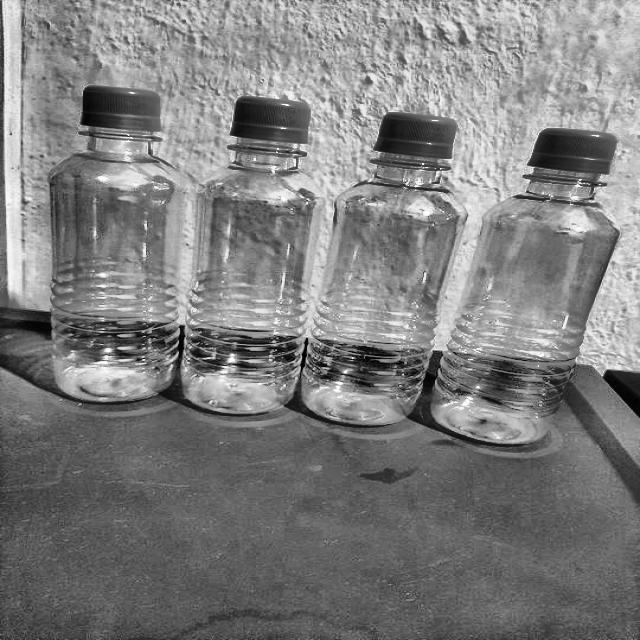waterbottle: (412, 120, 632, 460), (282, 97, 474, 433), (167, 88, 354, 422), (32, 74, 195, 426)
